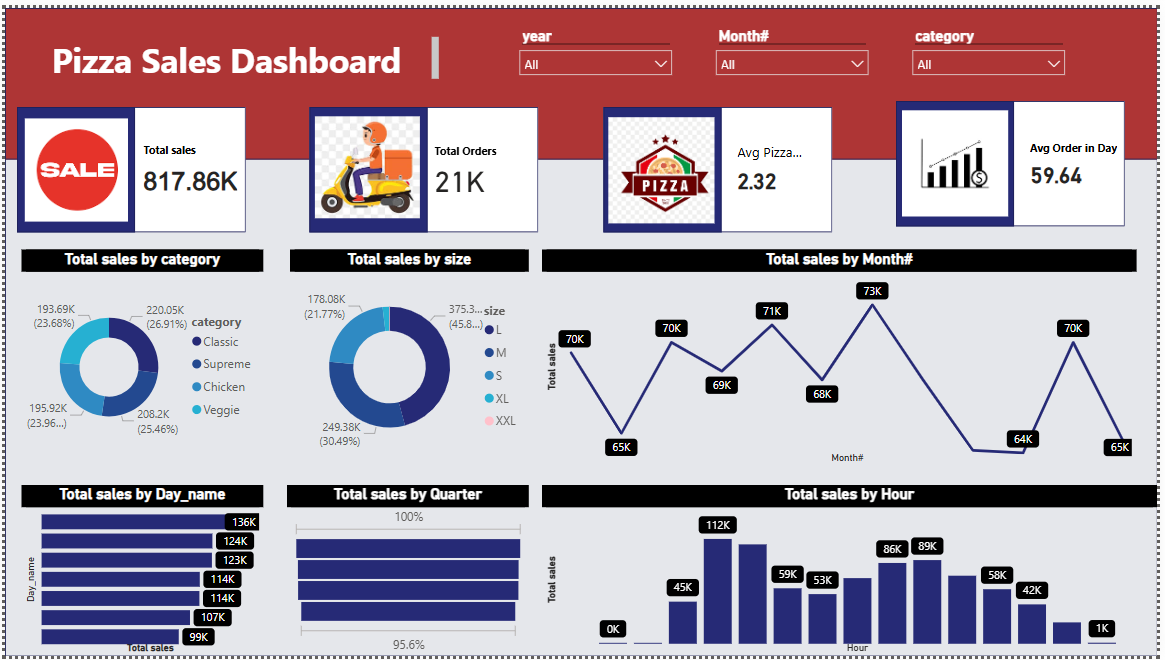

The dashboard page shown, as its layout file describes it:
{"tool":"powerbi","page":{"name":"Page 1","canvas":[1280,720],"ordinal":0},"visuals":[{"type":"shape","box":[0,0,1280.8,720.6],"z":0},{"type":"shape","box":[0,0,1280.8,168.4],"z":1000},{"type":"shape","box":[990.6,103.5,254.2,139.3],"z":2000,"group":"g4"},{"type":"group","id":"g1","title":"Group 1","box":[13,110.1,254.2,139.3],"z":2000},{"type":"shape","box":[13,110.1,254.2,139.3],"z":2000,"group":"g1"},{"type":"shape","box":[339,110.1,254.2,139.3],"z":2000,"group":"g2"},{"type":"shape","box":[665,110.1,254.2,139.3],"z":2000,"group":"g3"},{"type":"shape","box":[990.6,103.5,131.2,139.3],"z":3000,"group":"g4"},{"type":"shape","box":[13,110.1,131.2,139.3],"z":3000,"group":"g1"},{"type":"group","id":"g2","title":"Group 1","box":[339,110.1,254.2,139.3],"z":3000},{"type":"shape","box":[339,110.1,131.2,139.3],"z":3000,"group":"g2"},{"type":"shape","box":[665,110.1,131.2,139.3],"z":3000,"group":"g3"},{"type":"group","id":"g3","title":"Group 1","box":[665,110.1,254.2,139.3],"z":4000},{"type":"group","id":"g4","title":"Group 1","box":[136.9,101.3,1107.9,155],"z":5000},{"type":"textbox","box":[47,25.9,440.4,58.3],"z":6000},{"type":"cardVisual","fields":{"Data":["CALCULATION.Total sales"]},"box":[136.9,101.3,161.7,155],"z":6001,"group":"g4"},{"type":"cardVisual","fields":{"Data":["CALCULATION.Total Orders"]},"box":[460,110,132.9,142.9],"z":7000},{"type":"cardVisual","fields":{"Data":["CALCULATION.Avg Pizza Orders"]},"box":[796.7,120,116.7,115],"z":8000},{"type":"cardVisual","fields":{"Data":["CALCULATION.Avg Order in Day"]},"box":[1121.7,110,135,126.7],"z":9000},{"type":"slicer","fields":{"Values":["Calender.year"]},"box":[561.9,14.6,189.4,69.6],"z":10000},{"type":"slicer","fields":{"Values":["Calender.Month#"]},"box":[780.5,14.6,189.4,69.6],"z":11000},{"type":"slicer","fields":{"Values":["pizza_types.category"]},"box":[999.1,14.6,189.4,69.6],"z":12000},{"type":"donutChart","fields":{"Y":["CALCULATION.Total sales"],"Category":["pizza_types.category"]},"box":[17.8,268.8,268.8,241.3],"z":13000},{"type":"donutChart","fields":{"Y":["CALCULATION.Total sales"],"Category":["pizzas.size"]},"box":[317.4,268.8,265.6,241.3],"z":14000},{"type":"lineChart","fields":{"Category":["Calender.Month#"],"Y":["CALCULATION.Total sales"]},"box":[597.5,268.8,660.6,241.3],"z":15000},{"type":"clusteredBarChart","fields":{"Category":["Calender.Day_name"],"Y":["CALCULATION.Total sales"]},"box":[17.8,529.5,268.8,191.1],"z":16000},{"type":"funnel","fields":{"Category":["Calender.Quarter"],"Y":["CALCULATION.Total sales"]},"box":[314.1,529.5,268.8,191.1],"z":17000},{"type":"clusteredColumnChart","fields":{"Category":["orders.Hour"],"Y":["CALCULATION.Total sales"]},"box":[597.5,529.5,683.3,191.1],"z":18000},{"type":"image","box":[338.3,115,128.3,123.3],"z":19000},{"type":"image","box":[990,108.3,131.7,128.3],"z":20000},{"type":"image","box":[665,113.3,128.3,133.3],"z":21000},{"type":"image","box":[16.7,116.7,125,126.7],"z":22000}]}

Visuals, with their boxes in screenshot pixels (x1, y1, x2, y2), scaled from the page's 1280x720 canvas onto the 1165x660 screenshot:
shape: box(0, 0, 1164, 659)
shape: box(0, 0, 1164, 154)
shape: box(902, 95, 1133, 223)
"Group 1" group: box(12, 101, 243, 229)
shape: box(12, 101, 243, 229)
shape: box(309, 101, 540, 229)
shape: box(605, 101, 837, 229)
shape: box(902, 95, 1021, 223)
shape: box(12, 101, 131, 229)
"Group 1" group: box(309, 101, 540, 229)
shape: box(309, 101, 428, 229)
shape: box(605, 101, 725, 229)
"Group 1" group: box(605, 101, 837, 229)
"Group 1" group: box(125, 93, 1133, 235)
textbox: box(43, 24, 444, 77)
cardVisual - CALCULATION.Total sales: box(125, 93, 272, 235)
cardVisual - CALCULATION.Total Orders: box(419, 101, 540, 232)
cardVisual - CALCULATION.Avg Pizza Orders: box(725, 110, 831, 215)
cardVisual - CALCULATION.Avg Order in Day: box(1021, 101, 1144, 217)
slicer - Calender.year: box(511, 13, 684, 77)
slicer - Calender.Month#: box(710, 13, 883, 77)
slicer - pizza_types.category: box(909, 13, 1082, 77)
donutChart - CALCULATION.Total sales x pizza_types.category: box(16, 246, 261, 468)
donutChart - CALCULATION.Total sales x pizzas.size: box(289, 246, 531, 468)
lineChart - Calender.Month# x CALCULATION.Total sales: box(544, 246, 1145, 468)
clusteredBarChart - Calender.Day_name x CALCULATION.Total sales: box(16, 485, 261, 659)
funnel - Calender.Quarter x CALCULATION.Total sales: box(286, 485, 531, 659)
clusteredColumnChart - orders.Hour x CALCULATION.Total sales: box(544, 485, 1164, 659)
image: box(308, 105, 425, 218)
image: box(901, 99, 1021, 217)
image: box(605, 104, 722, 226)
image: box(15, 107, 129, 223)
